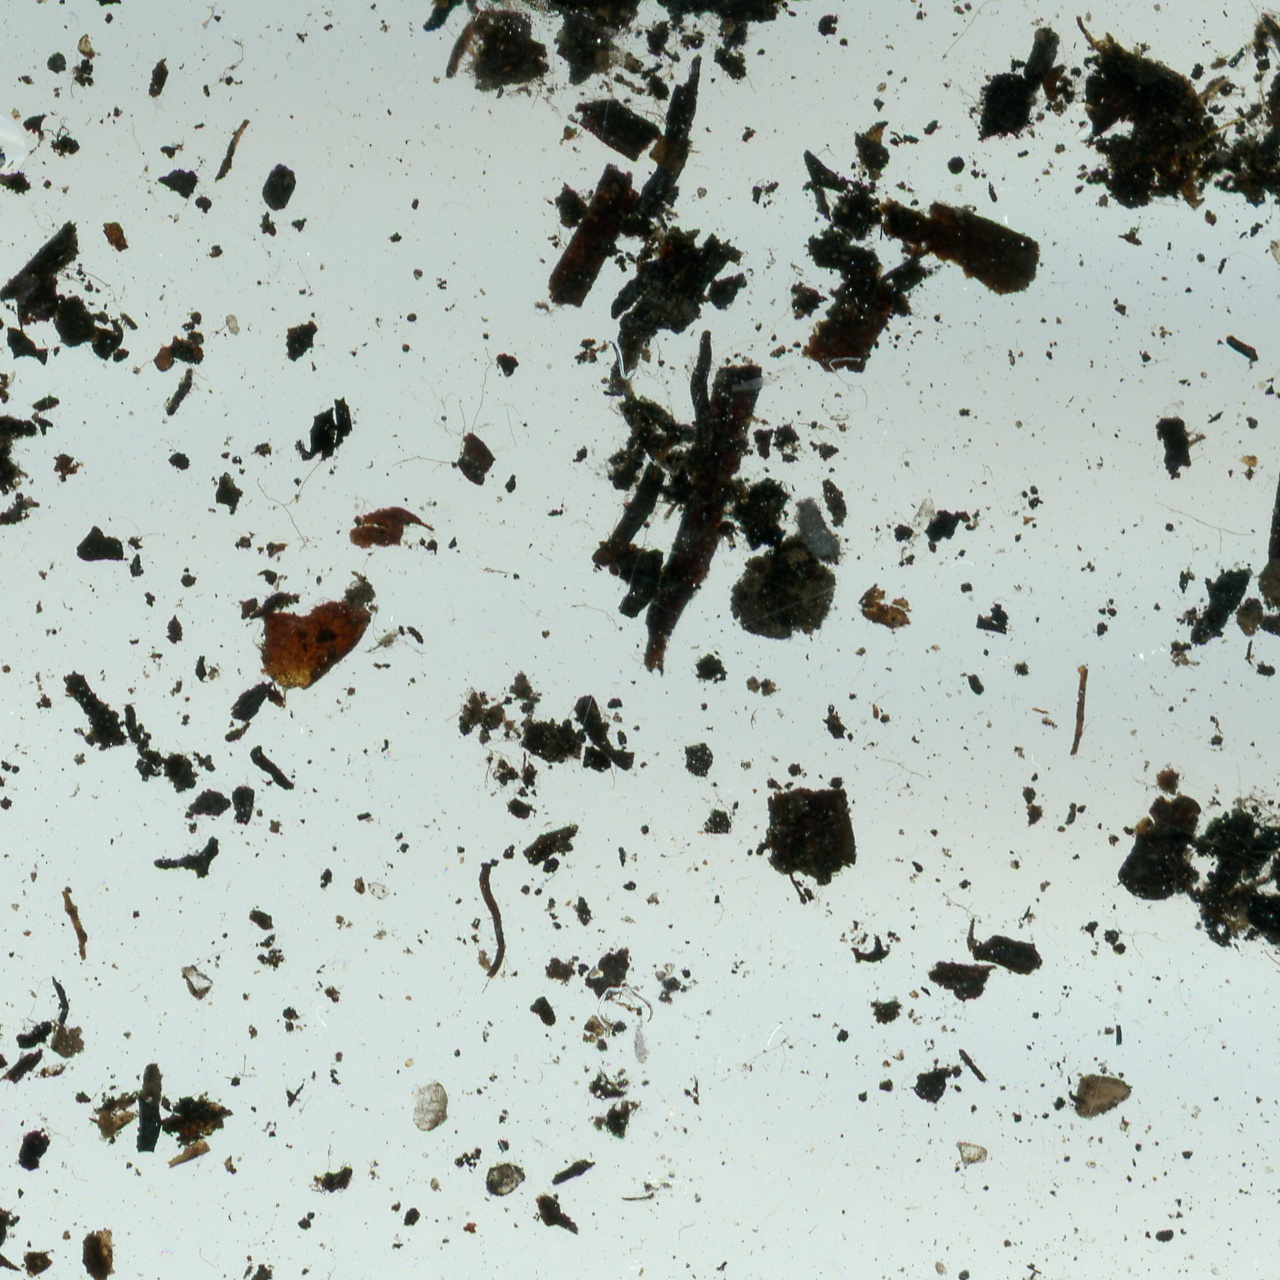arthropod: (782, 488, 853, 580), (695, 1260, 806, 1280)
